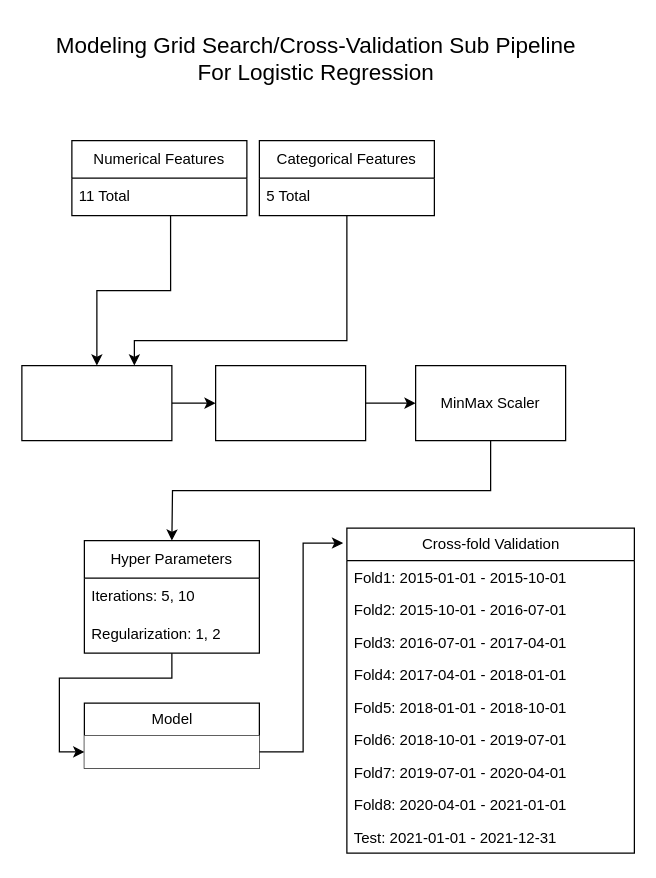
Image size: 656x878. Some labels were removed from this diagram. Here are the shapes that lost their labels. From the top down, the centre of each, then its label:
At point (96, 402): "imputation of missing values".
At point (290, 402): "Vector Assembler".
At point (171, 751): "Logistic Regression".
